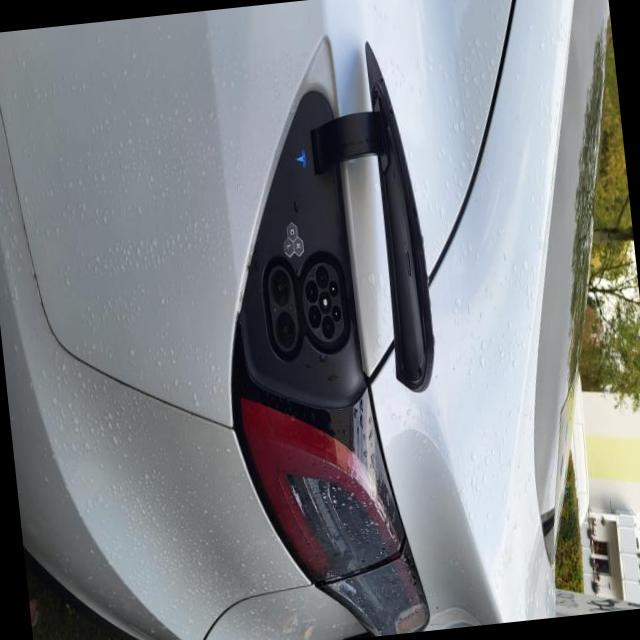inlet: (301, 263, 343, 342)
inlet-above-left: (327, 280, 337, 297)
inlet-above-right: (331, 304, 340, 322)
inlet-below-left: (303, 279, 317, 304)
inlet-below-right: (306, 305, 320, 328)
inlet-center: (317, 290, 331, 314)
inlet-center-left: (314, 265, 327, 289)
inlet-center-right: (320, 315, 334, 339)
